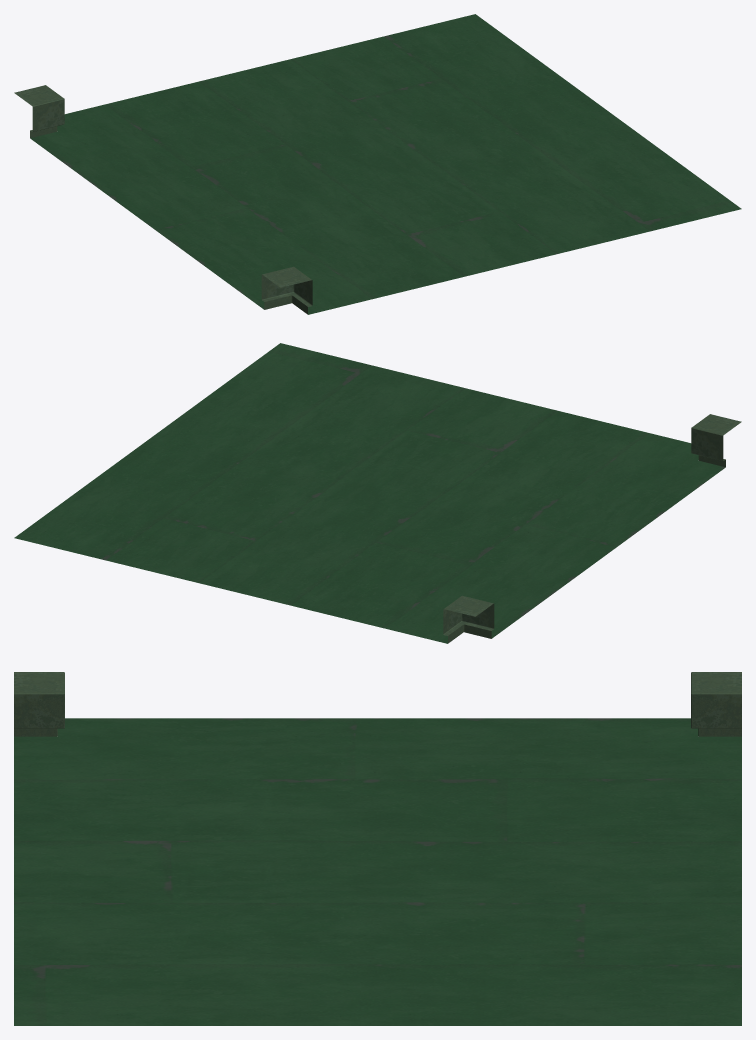
Rendered from SM_Roof_T.fbx.
3 renders of one model, top to bottom at view 1: azimuth 30°, elevation 25°; view 2: azimuth 150°, elevation 25°; view 3: azimuth 270°, elevation 25°, orthographic. The views are drawn at different scales.
Visible parts, largest first — view 1: SM_Roof_T_LOD0; view 2: SM_Roof_T_LOD0; view 3: SM_Roof_T_LOD0.
Boxes of the visible parts, x1,y1,x2,y2 form: SM_Roof_T_LOD0: [14, 14, 741, 314]; SM_Roof_T_LOD0: [14, 343, 741, 643]; SM_Roof_T_LOD0: [14, 672, 741, 1025].
Bounding box in the file's own units: 500 × 500 × 35.
Materials: 2 (2 with a texture image).
